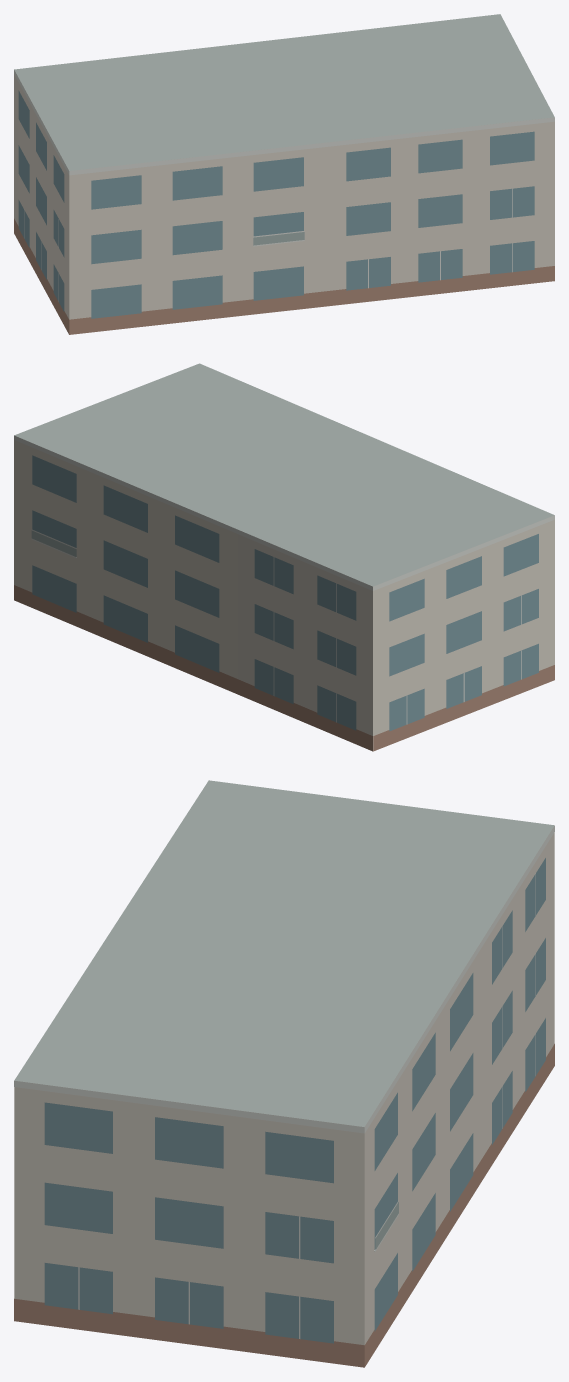
File: survey-upis-32926376.glb
3 renders of one model, top to bottom at view 1: azimuth 30°, elevation 25°; view 2: azimuth 150°, elevation 25°; view 3: azimuth 270°, elevation 25°, orthographic. The views are drawn at different scales.
Visible parts, largest first — view 1: survey-upis-32926376.tmp; view 2: survey-upis-32926376.tmp; view 3: survey-upis-32926376.tmp.
Boxes of the visible parts, x1,y1,x2,y2 form: survey-upis-32926376.tmp: [14, 14, 554, 334]; survey-upis-32926376.tmp: [14, 363, 554, 751]; survey-upis-32926376.tmp: [14, 780, 554, 1367].
Bounding box in the file's own units: 28.32 × 9.15 × 18.66.
